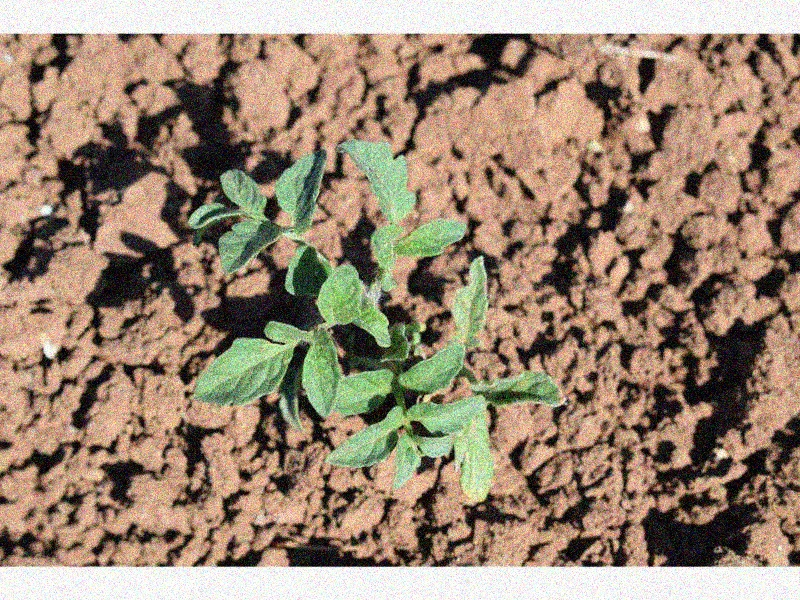tomato: (188, 137, 565, 504)
